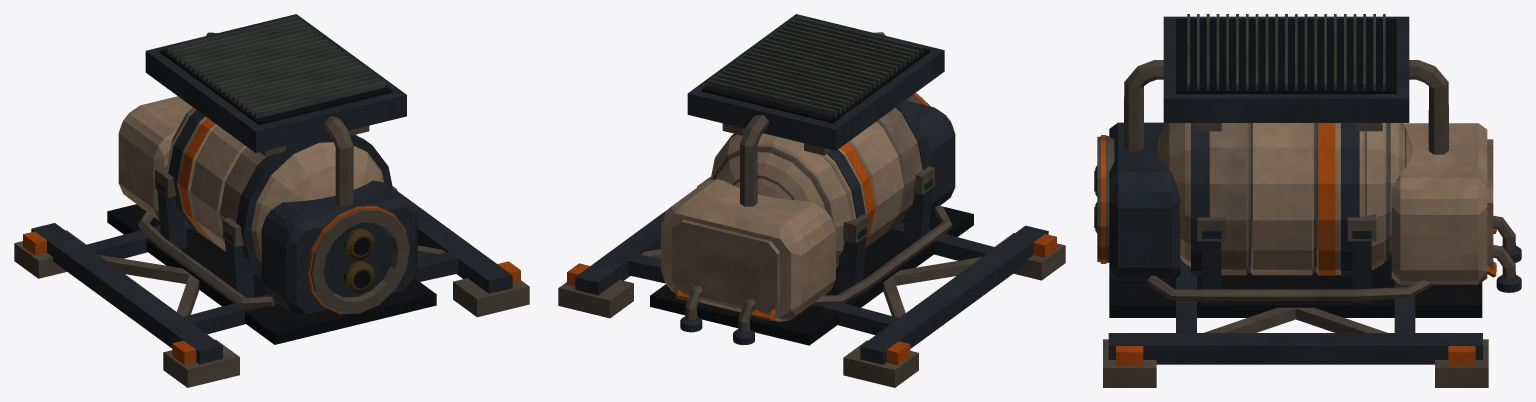
The model's file is depot-refinery-lod1.glb.
3 renders of one model, left to right at view 1: azimuth 30°, elevation 25°; view 2: azimuth 150°, elevation 25°; view 3: azimuth 270°, elevation 25°, orthographic. The views are drawn at different scales.
Visible parts, largest first — view 1: Refinery ceramic and hardware trim 1; view 2: Refinery ceramic and hardware trim 1; view 3: Refinery ceramic and hardware trim 1.
Boxes of the visible parts, x1,y1,x2,y2 form: Refinery ceramic and hardware trim 1: [14, 14, 529, 387]; Refinery ceramic and hardware trim 1: [558, 14, 1065, 387]; Refinery ceramic and hardware trim 1: [1094, 14, 1521, 387].
Size of the model in its own units: 6.12 by 3.78 by 5.95.
Materials: 1 (1 with a texture image).
